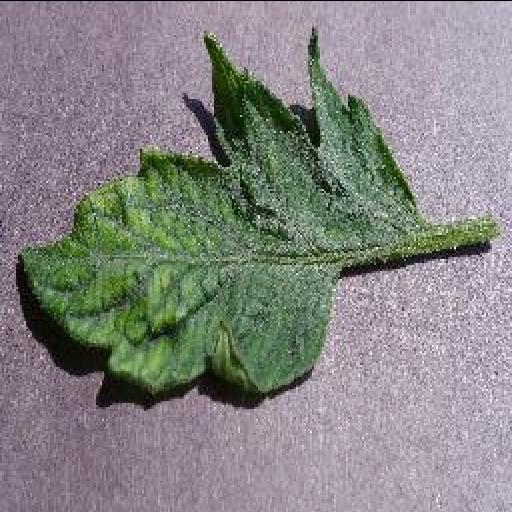disease_tomato: (12, 23, 426, 397)
